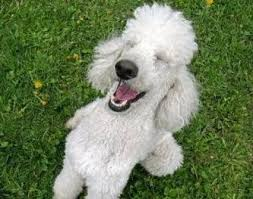Poodle: (46, 6, 214, 197)
